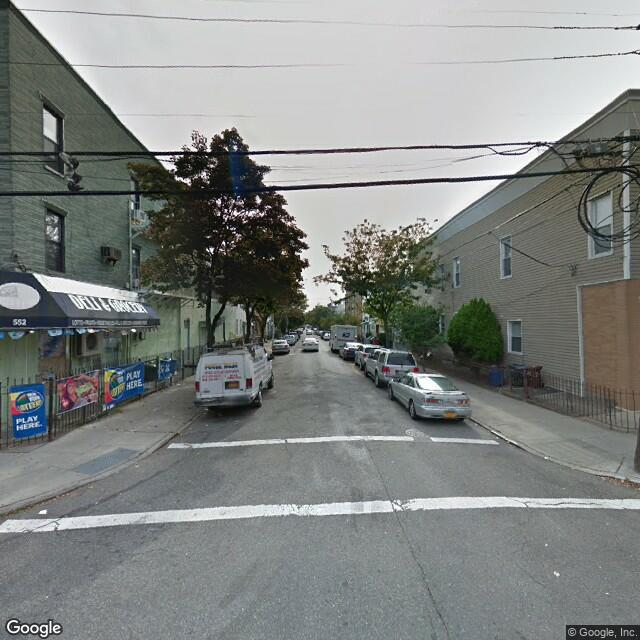litter: (37, 506, 48, 521), (548, 568, 557, 574)
